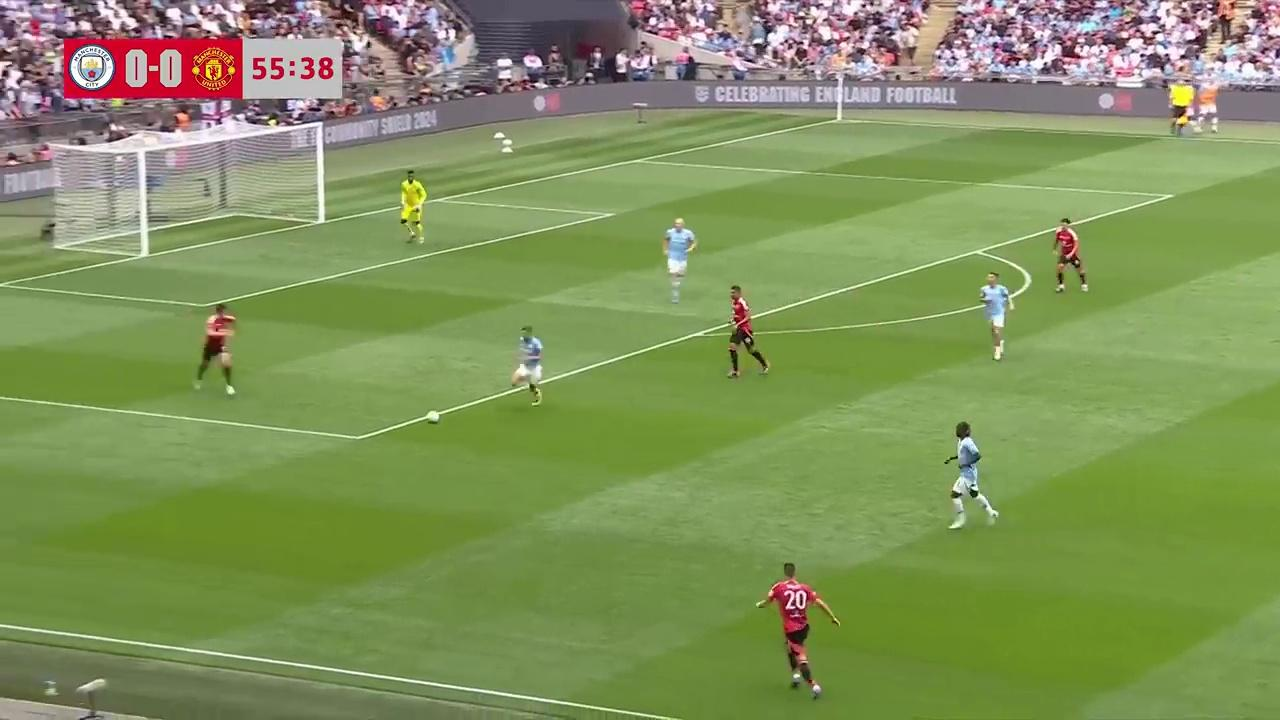ball: (426, 407, 441, 424)
player: (756, 562, 837, 697), (944, 421, 999, 529), (192, 302, 238, 396), (728, 287, 769, 377), (980, 272, 1013, 361), (1052, 218, 1089, 293), (509, 326, 543, 406), (662, 221, 695, 303), (399, 170, 426, 245)
referee: (1170, 84, 1193, 138)
